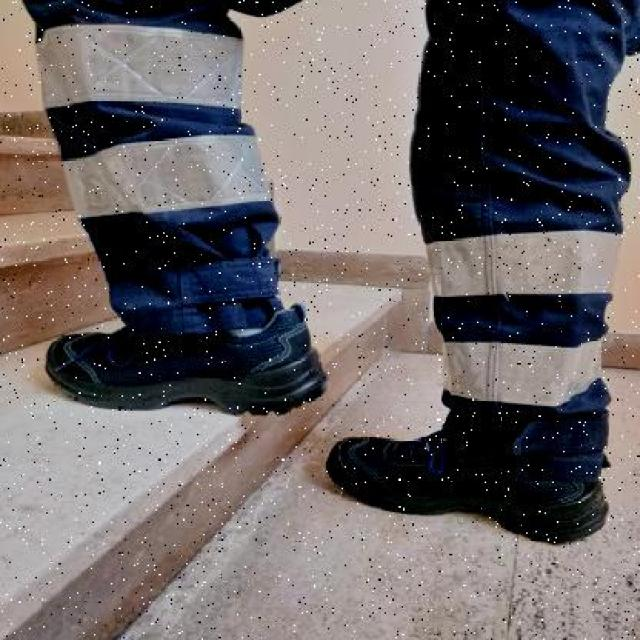shoes: (342, 428, 610, 544), (38, 322, 314, 422)
